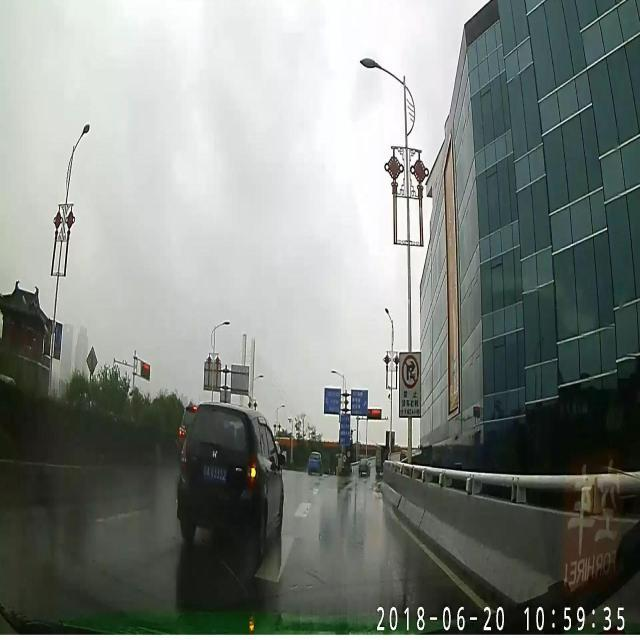car: (172, 400, 284, 550), (306, 450, 322, 474), (358, 456, 370, 478)
